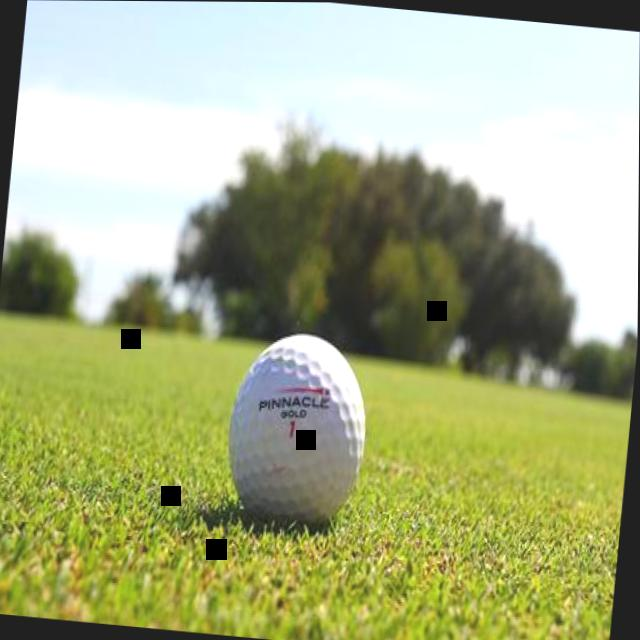golf ball: (210, 322, 386, 547)
